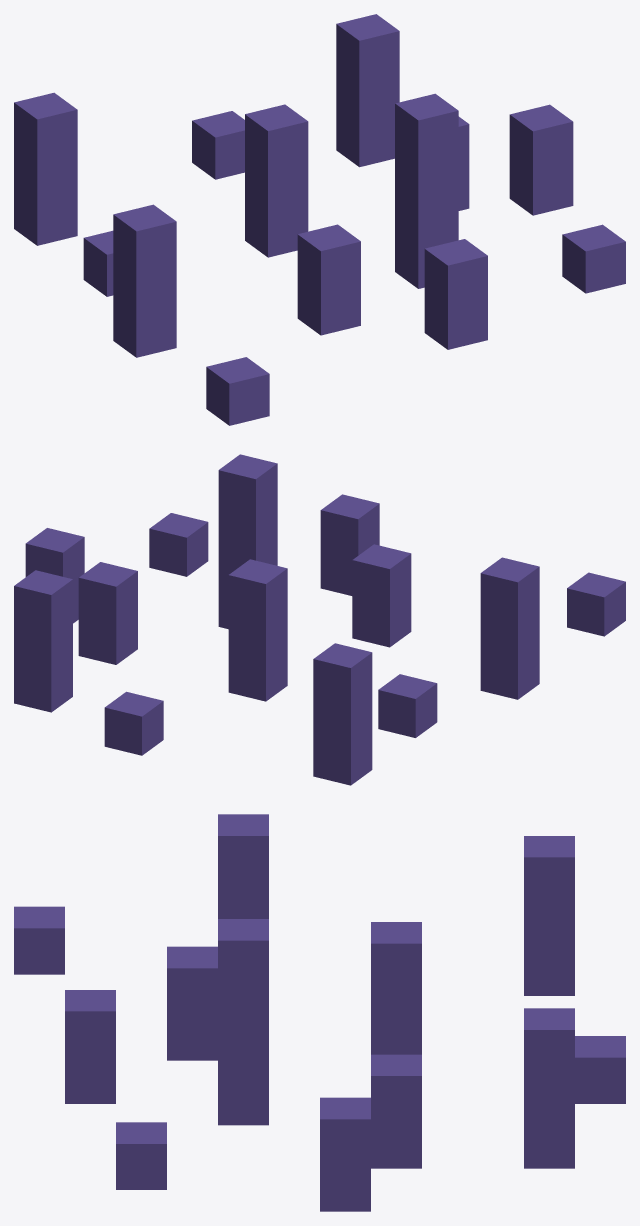
Rendered from LunaGrass3.obj.
3 views of the same model, one above another, from view 1: azimuth 30°, elevation 25°; view 2: azimuth 150°, elevation 25°; view 3: azimuth 270°, elevation 25° (orthographic). The views are drawn at different scales.
Visible parts, largest first — view 1: LunaGrass3; view 2: LunaGrass3; view 3: LunaGrass3.
Boxes of the visible parts, x1,y1,x2,y2 form: LunaGrass3: [14, 14, 625, 425]; LunaGrass3: [14, 454, 625, 785]; LunaGrass3: [14, 814, 625, 1211].
Size of the model in its own units: 12 by 4 by 12.
1 material, 1 textured.
